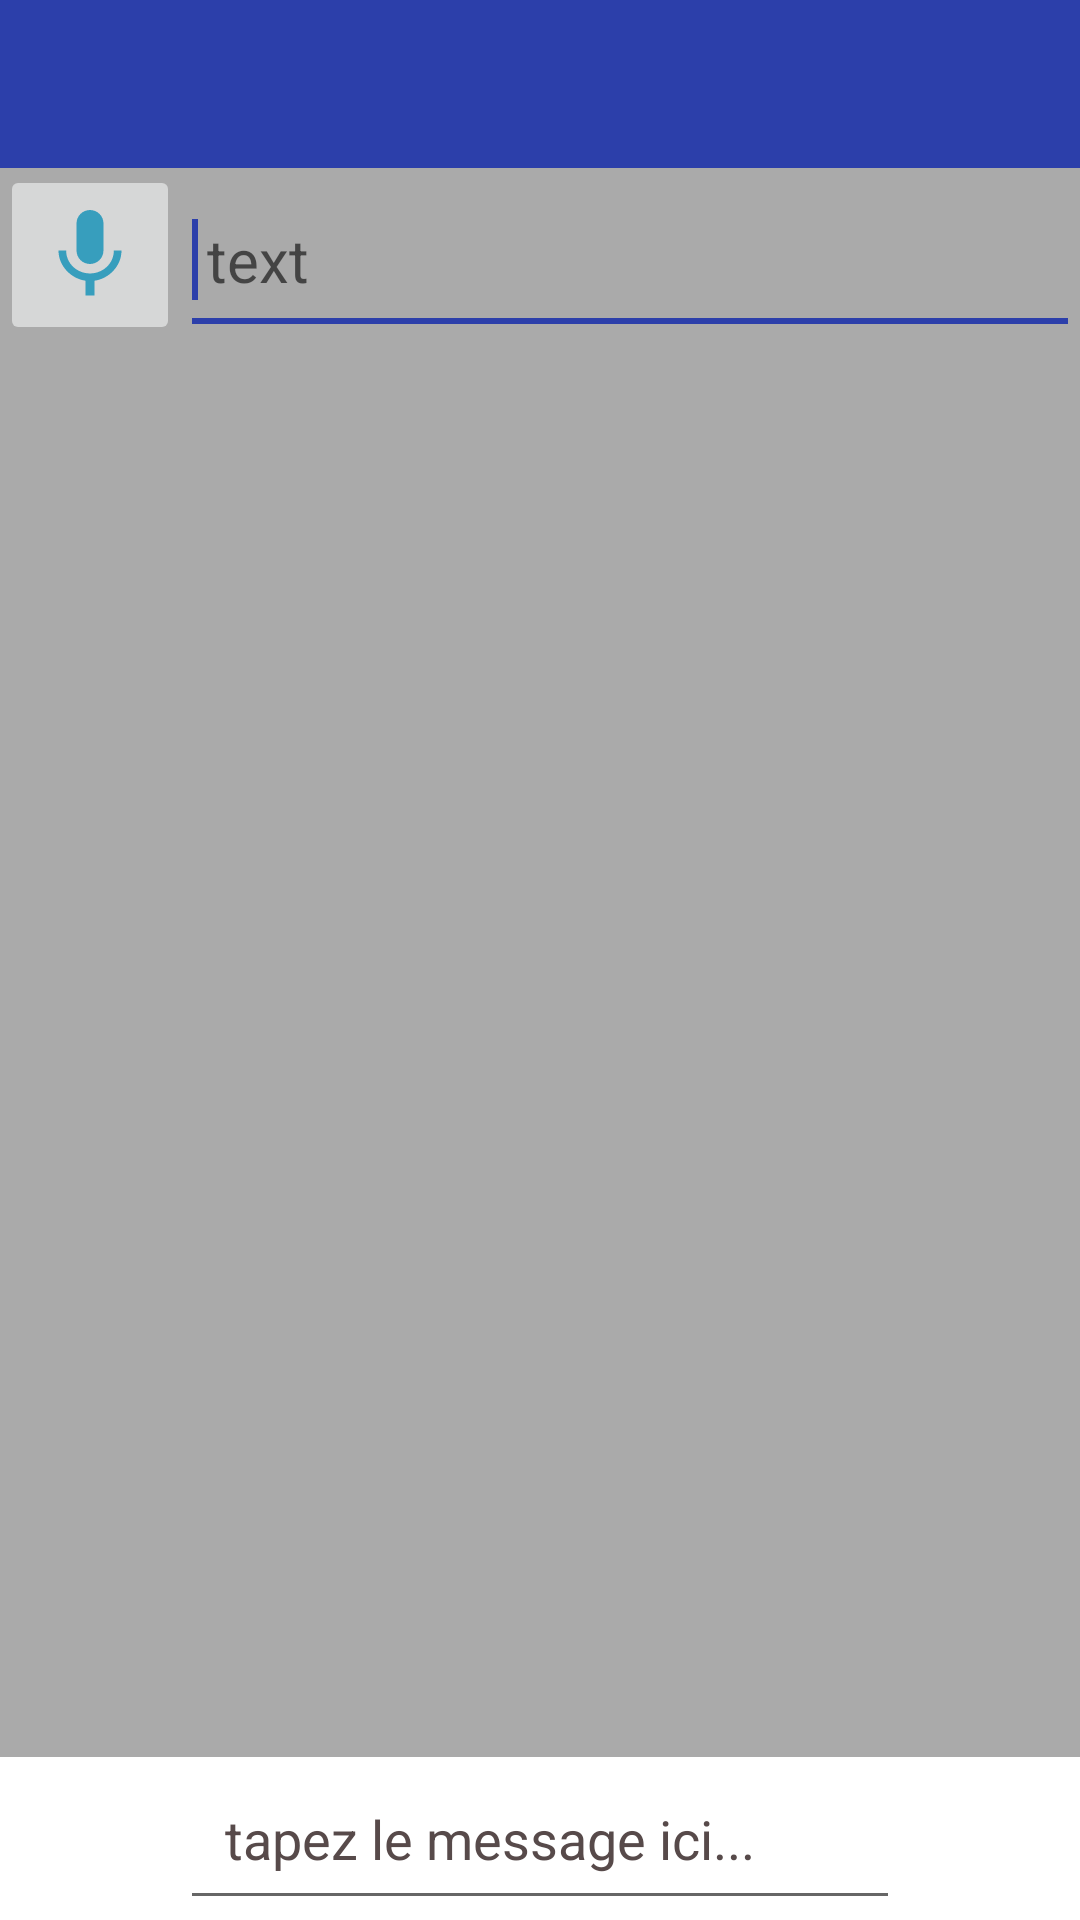

Icons on this 1080px×1920px Android screen, each with its box as (x1, y1, x2, y2):
mic: (12, 183, 168, 327)
